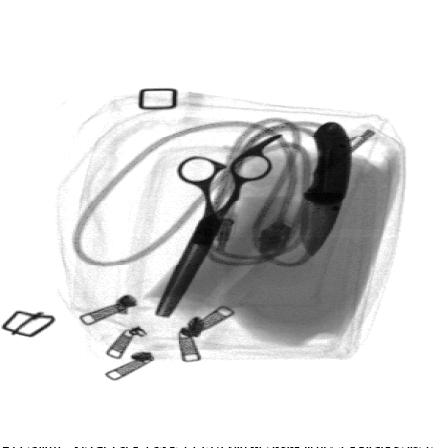Knife: (298, 119, 350, 258)
Scissors: (153, 133, 280, 317)
